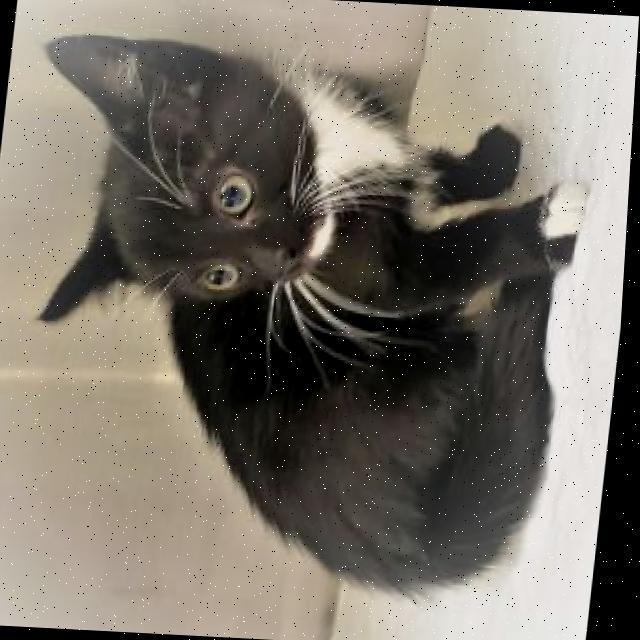Tuxedo: (0, 28, 614, 606)
